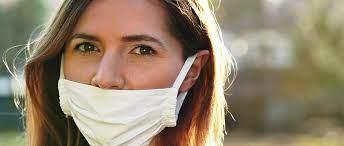mask_weared_incorrect: (60, 4, 194, 146)
